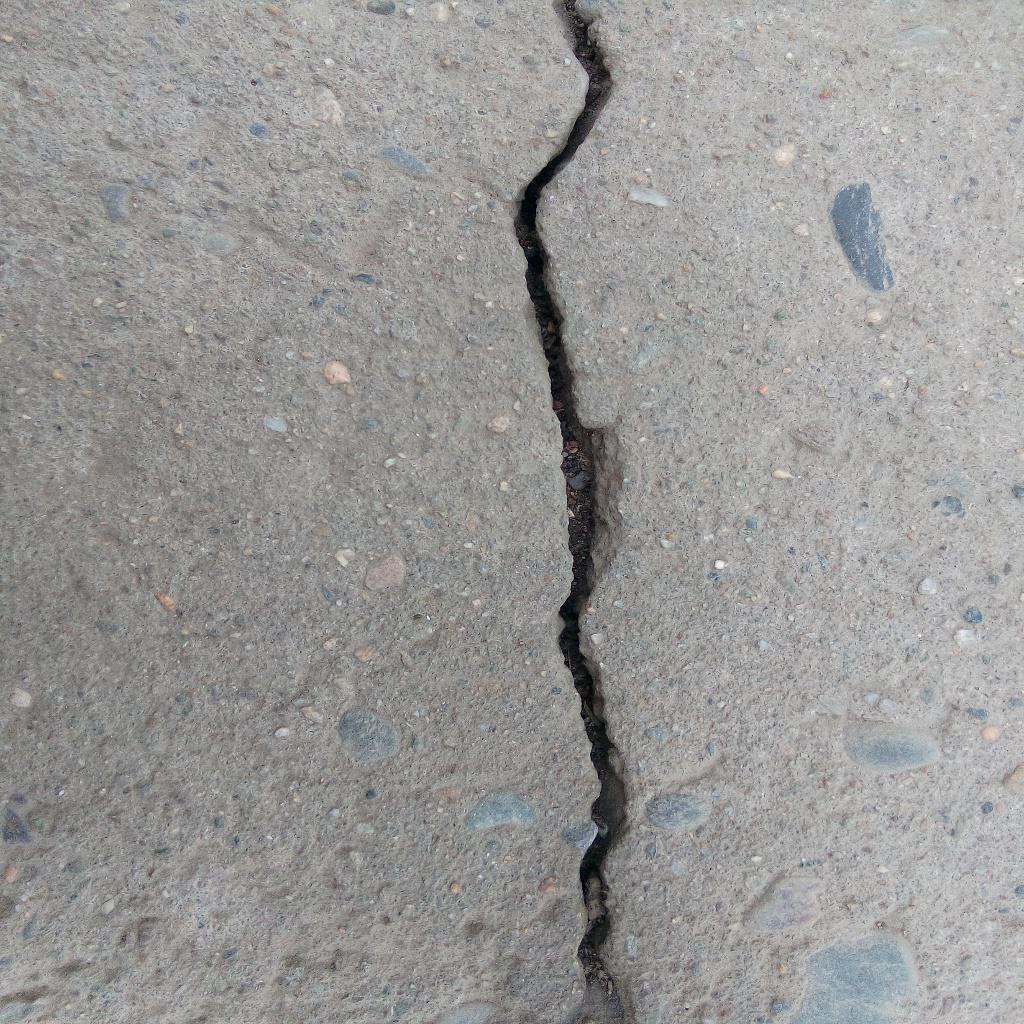Crack: (512, 1, 627, 1024)
